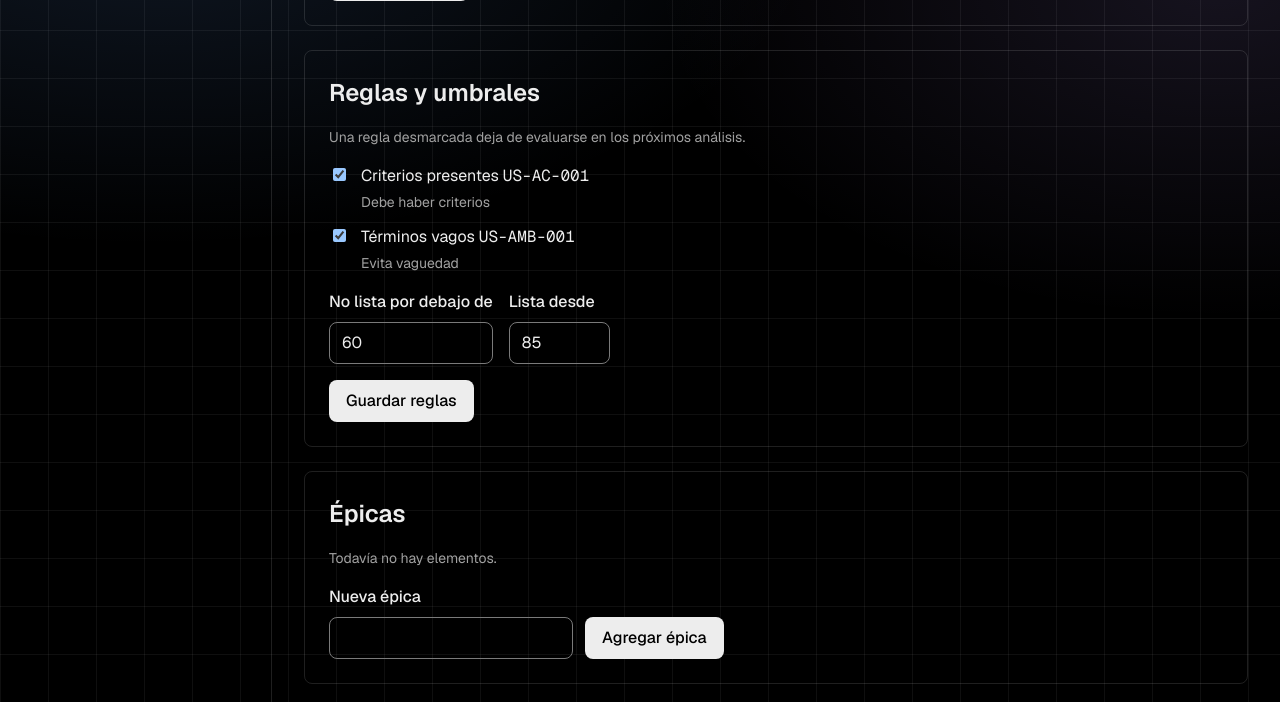
Test: SettingsPage › dentro del Shell real, la confirmación sobrevive al guardado sin remontar
(page scrolled)
Expected: the checkbox labelled "Términos vagos US-AMB-001 Evita vaguedad" is shown, top-left (333, 229), bottom-right (346, 242)
Replace the text in the number field labelled "No lista por debajo de" with "50" at (411, 343), box top-left (329, 322), bottom-right (493, 364)
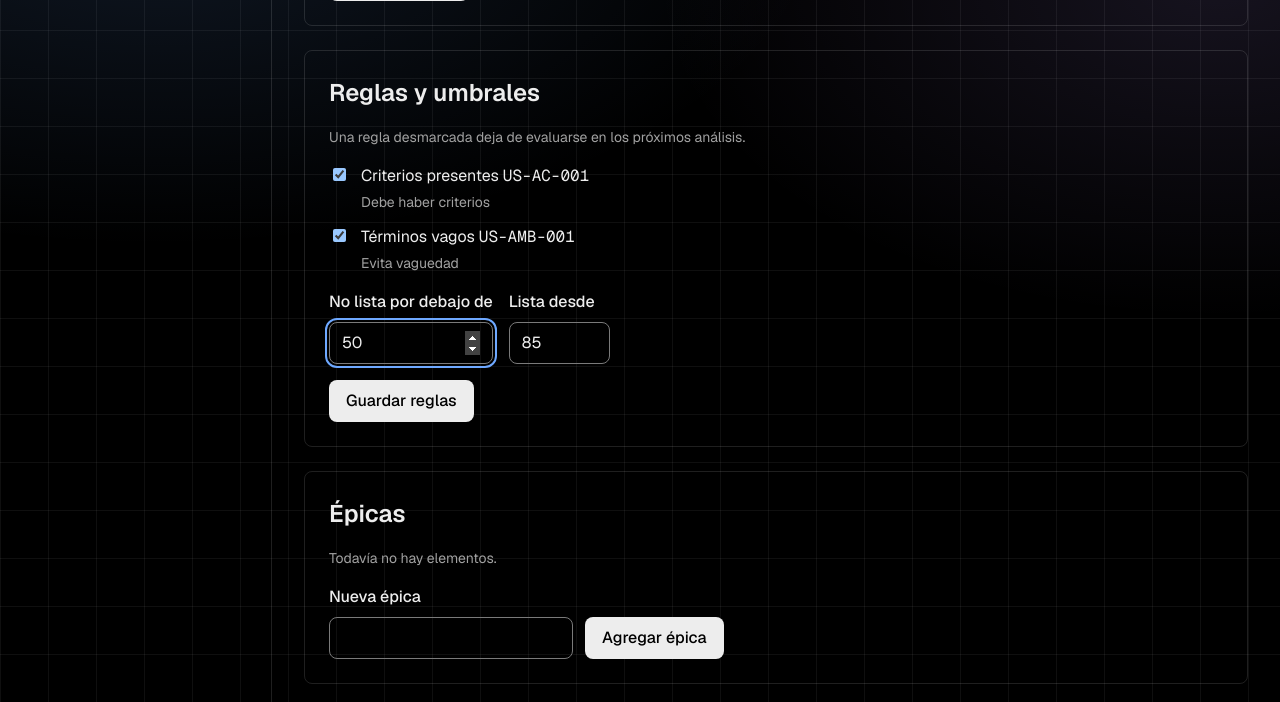
Click the button "Guardar reglas" at (401, 401), box top-left (329, 380), bottom-right (474, 422)
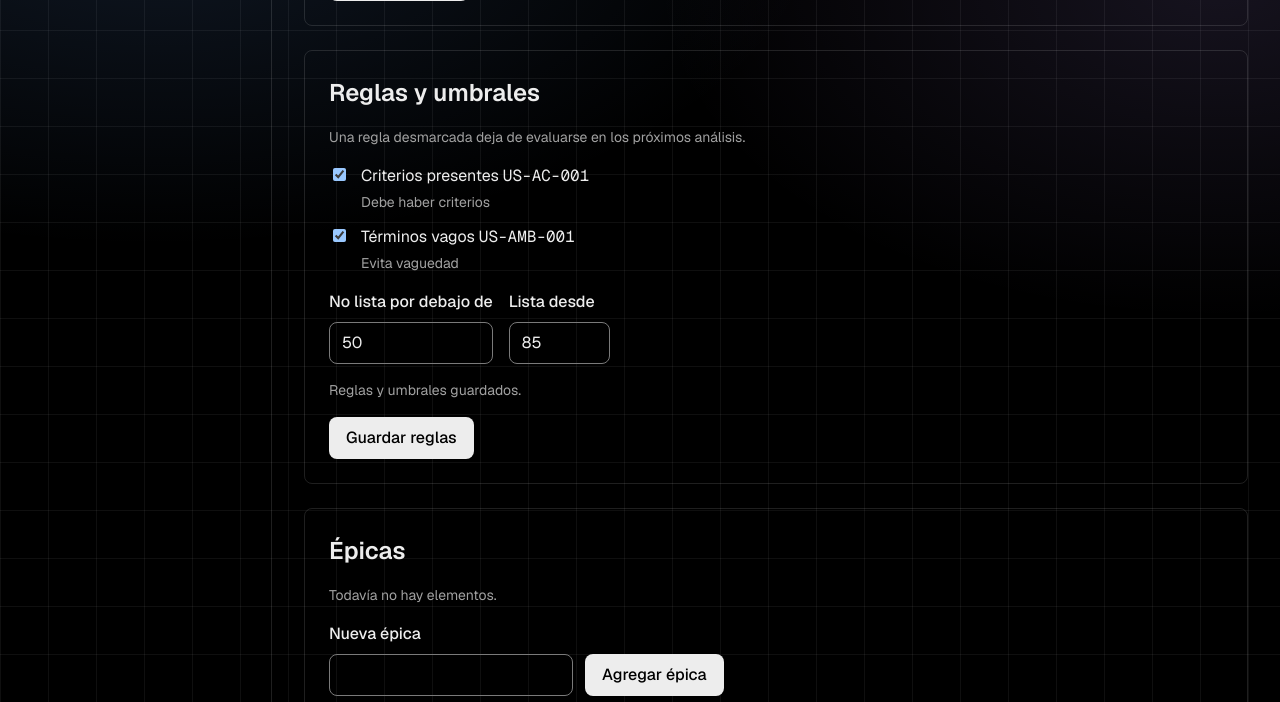
Expected: the text "Reglas y umbrales guardados." is shown, top-left (329, 381), bottom-right (521, 399)
